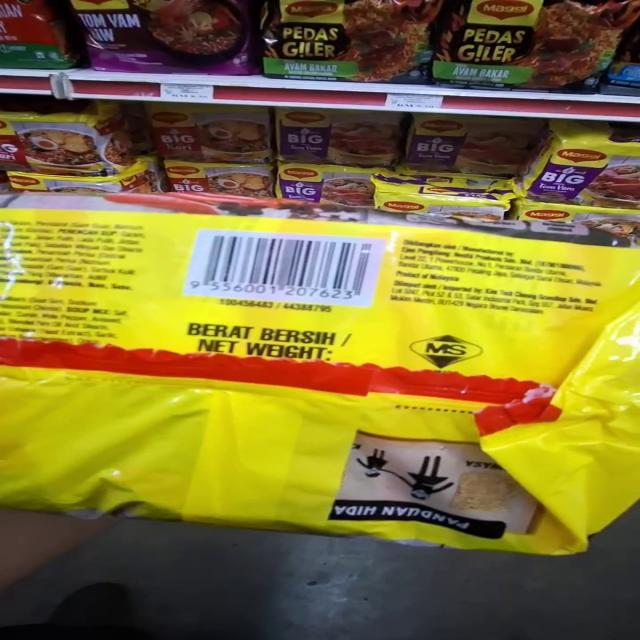Maggi: (0, 188, 640, 552)
